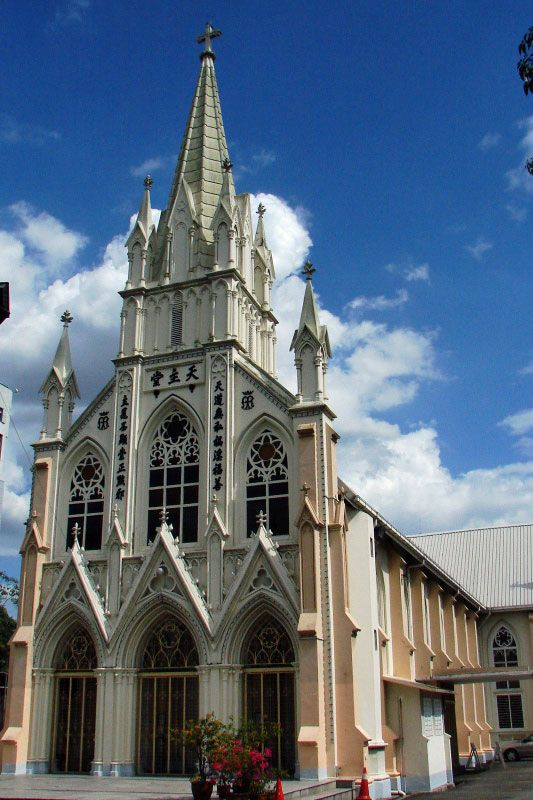Church: (28, 13, 363, 767)
